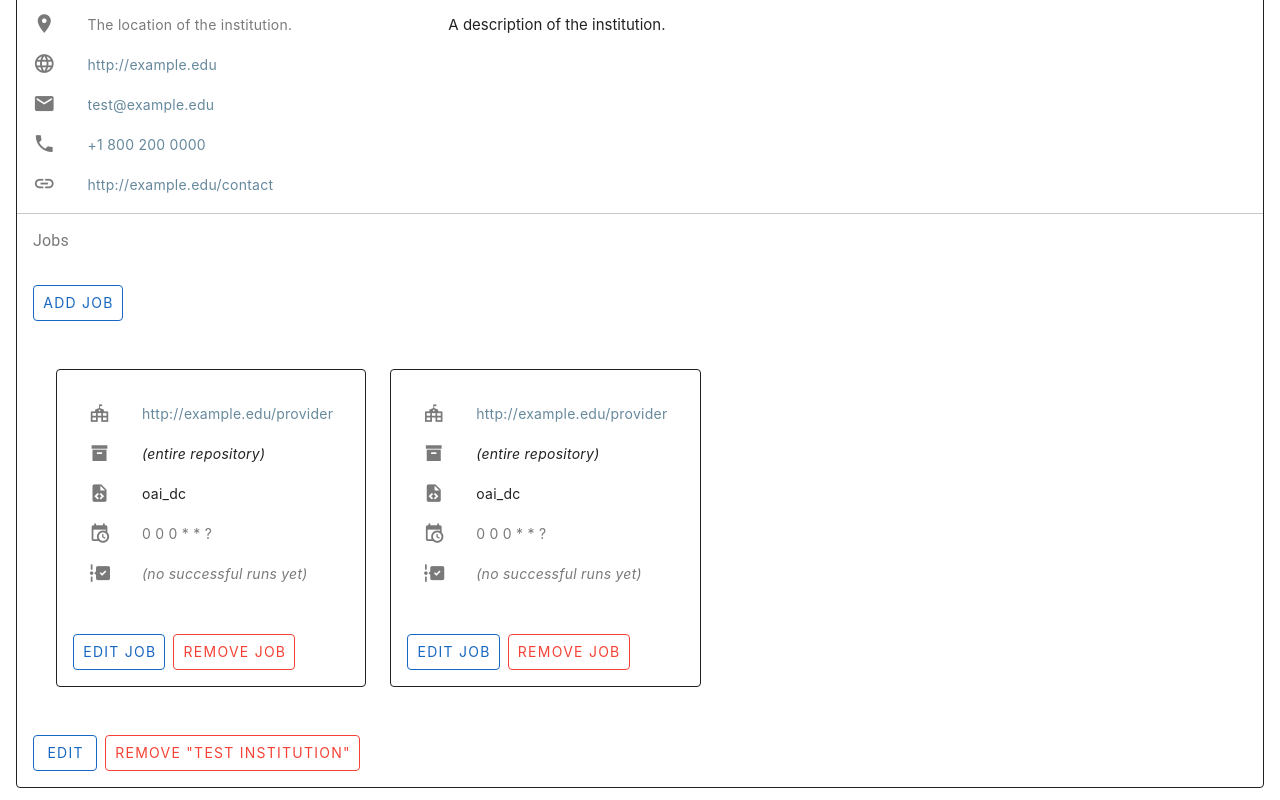
it: HarvesterAdmin › with institutions › with jobs › displays a dialog to confirm removing a job when the appropriate button is clicked
(page scrolled)
expect the text "This action will remove" is not shown: met
Click the 1st button "Remove Job".
click(234, 652)  # box 173,634 -> 295,670
(page scrolled)
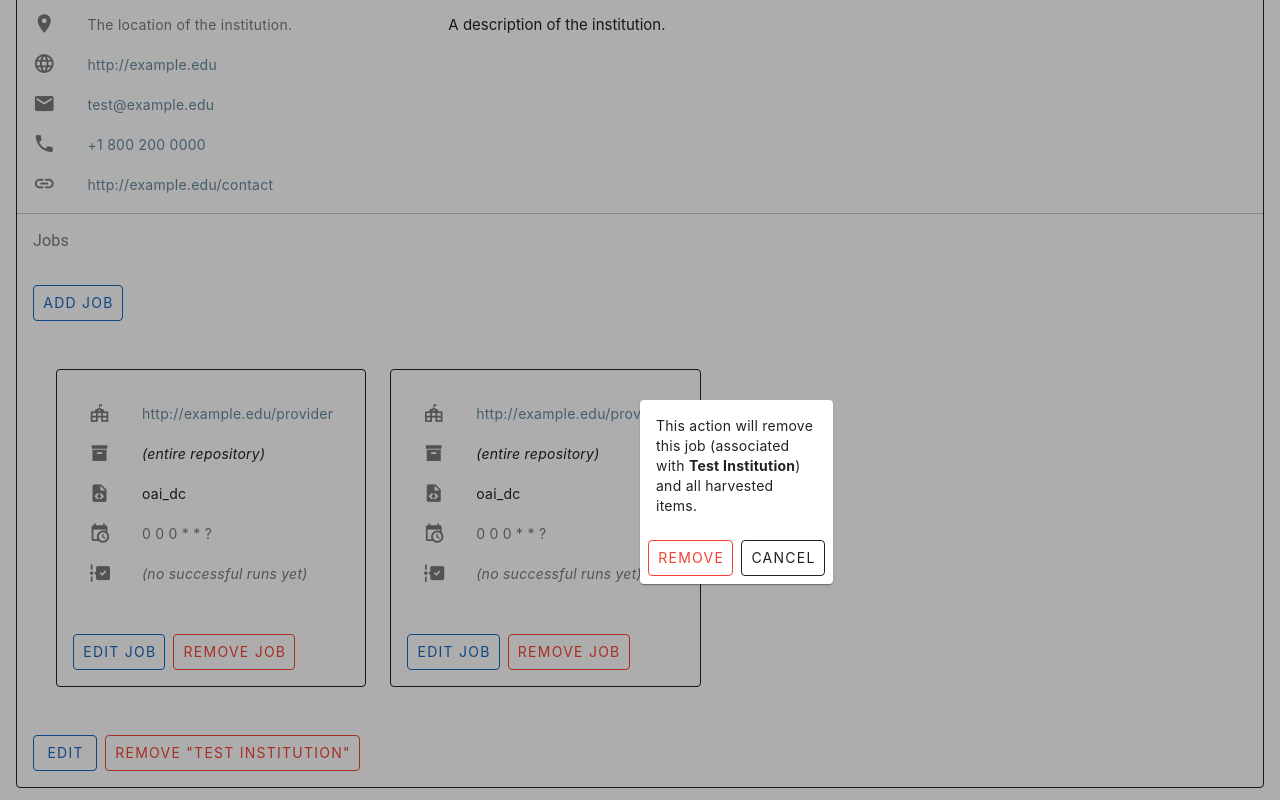
expect the text "This action will remove" is shown: met, box 656,417 -> 813,474
